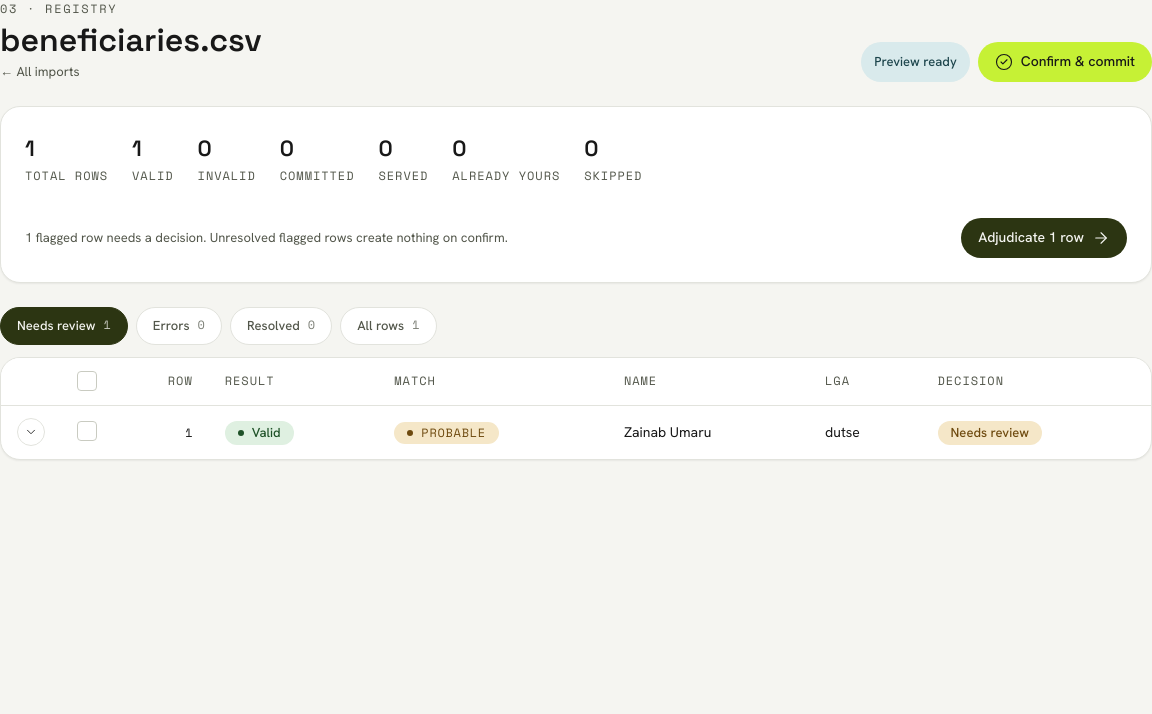
ImportBatchPage — duplicate resolution › requires a justification to adjudicate a probable row as new
Click the button named "expand zainab umaru": (31, 432) [17, 418, 45, 446]
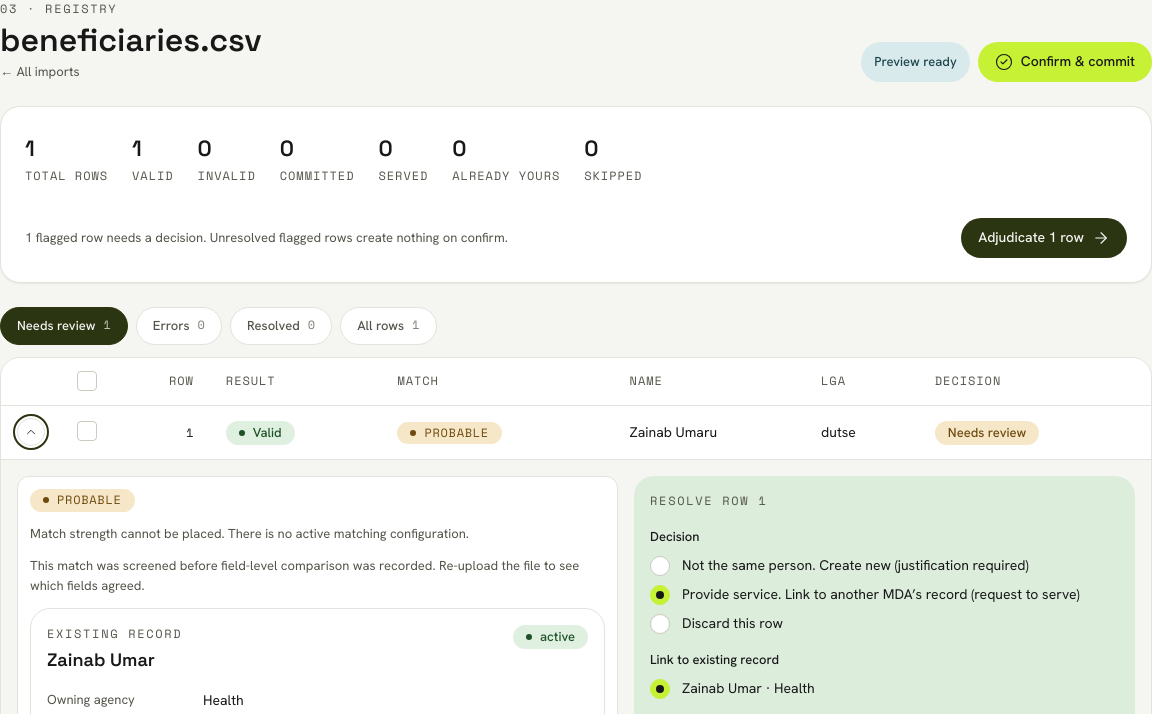
Click the radio button labelled "Not the same person. Create new (justification required)": (839, 566) [650, 556, 1029, 576]
(page scrolled)
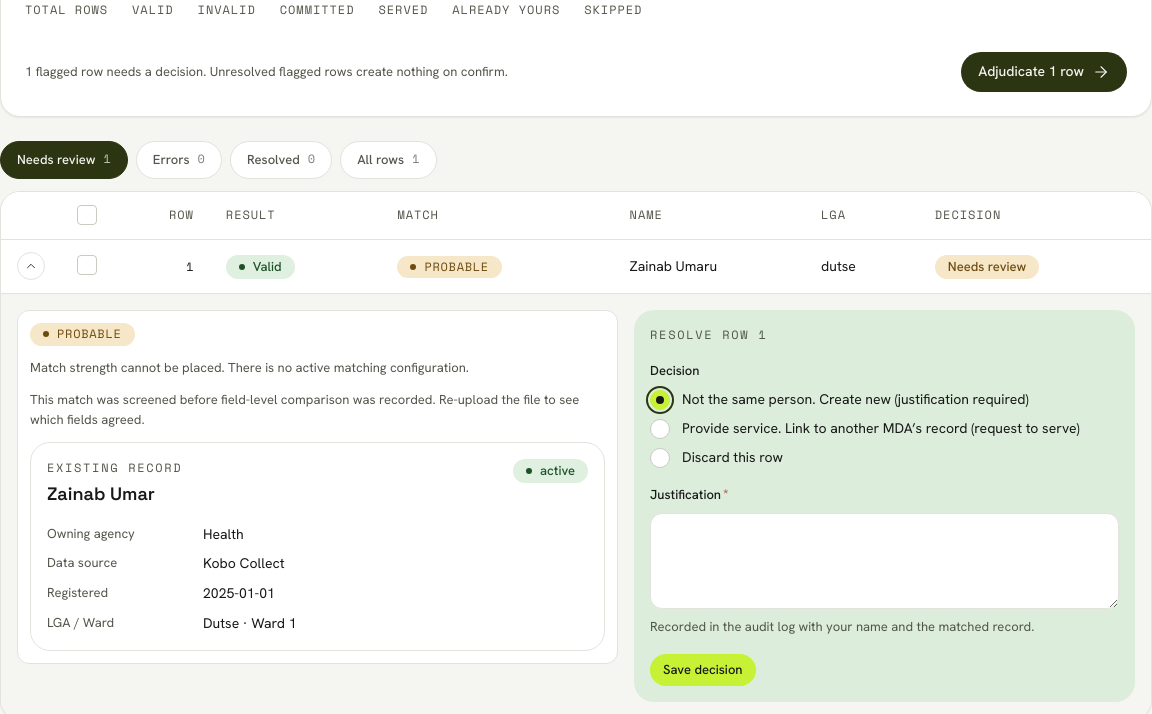
Click the button "Save decision": (703, 670) [650, 654, 756, 686]
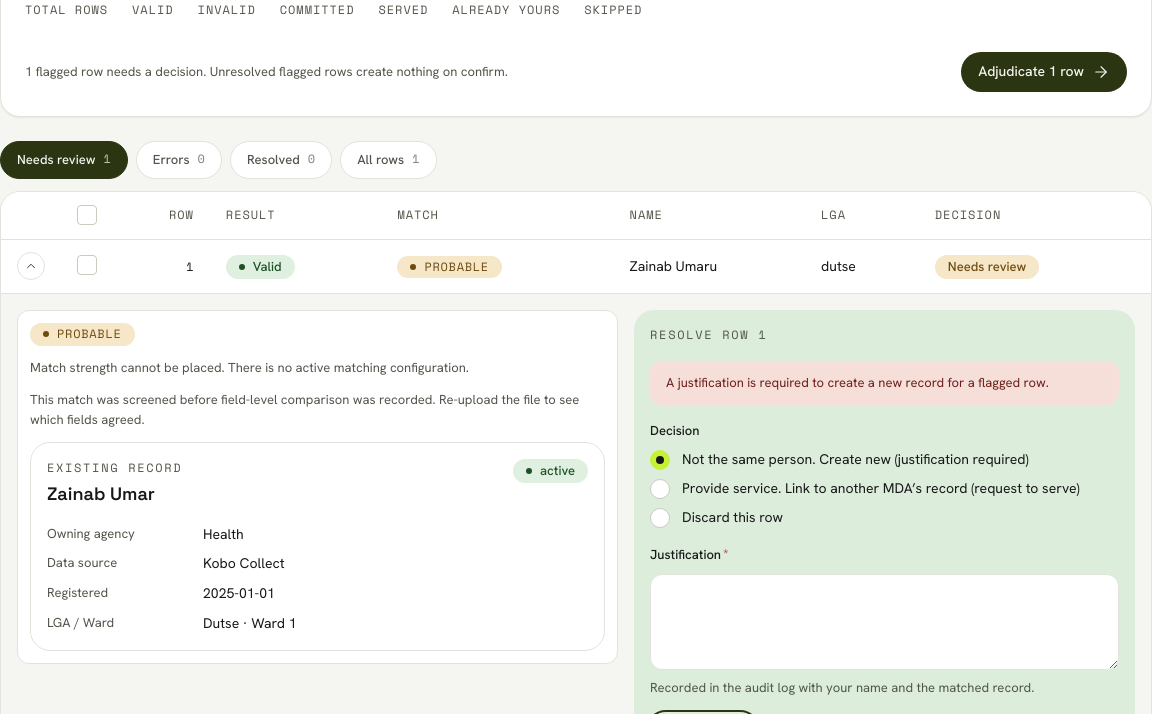
Check: the text "A justification is required to create a new record for a flagged row." is shown, box [650, 361, 1119, 405]
